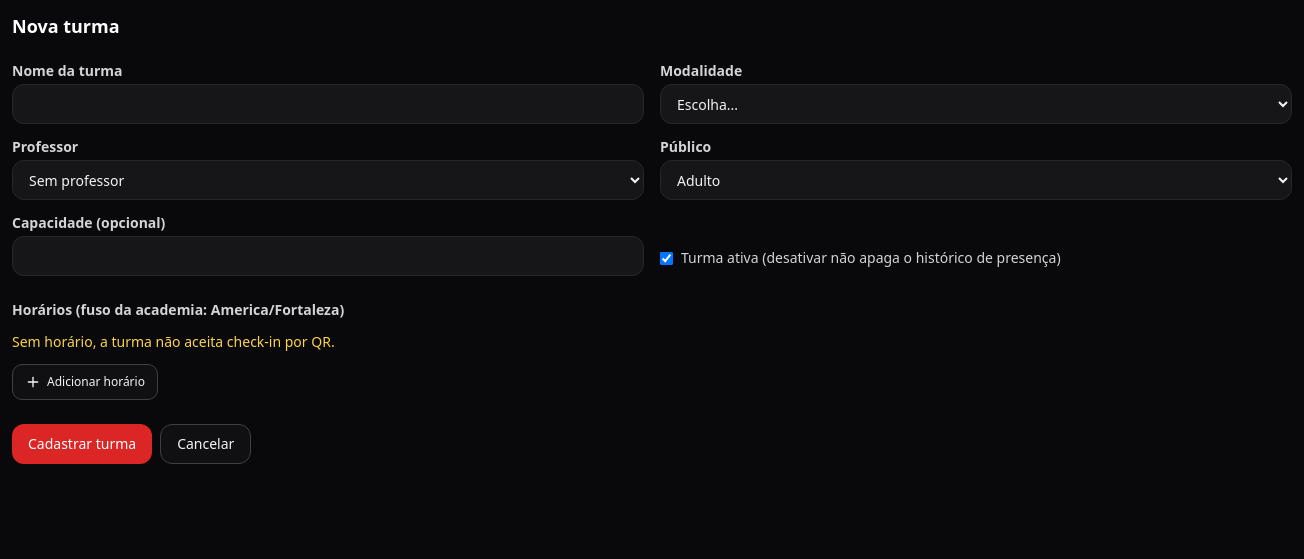
Test case: Painel: turmas › cadastro › erro do banco aparece no formulário
The width and height of the screenshot is (1304, 559).
Type "Kids" into the field labelled "Nome da turma". click: (328, 104)
box: [12,84,644,124]
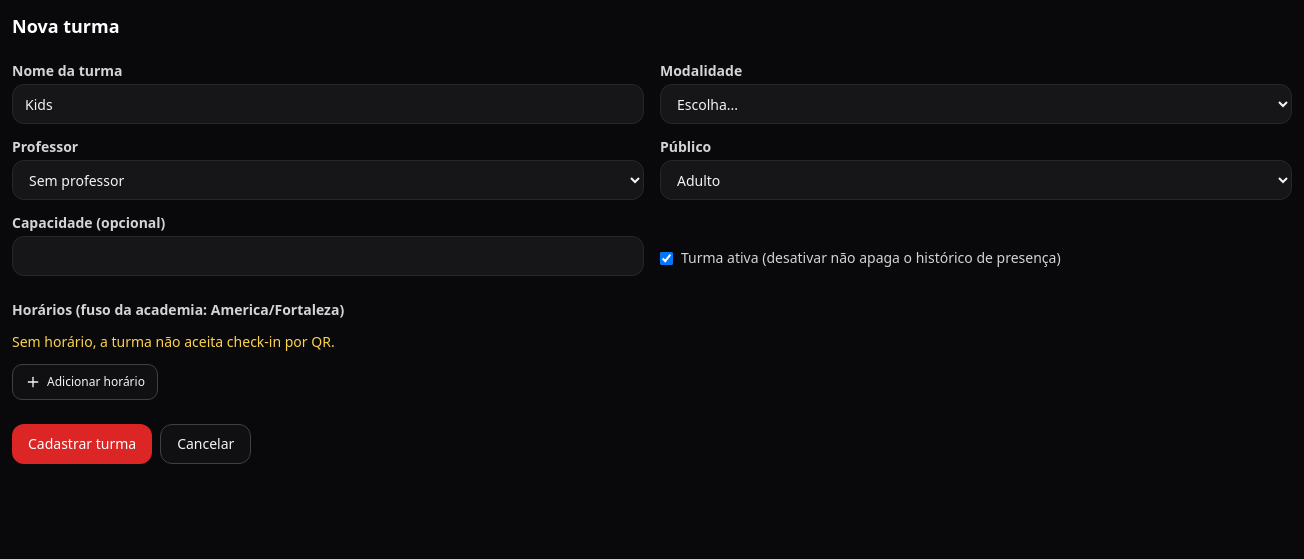
Select "Jiu-Jitsu" in the dropdown labelled "Modalidade". click: (976, 104)
box: [660,84,1292,124]
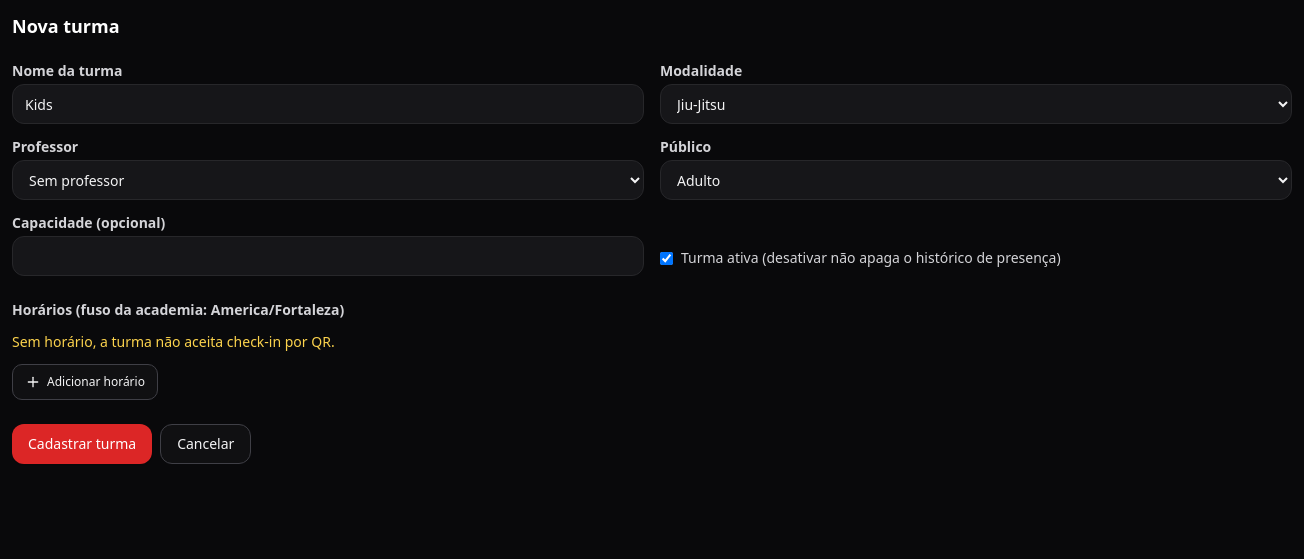
Click the button "Cadastrar turma". click: click(82, 444)
box: [12,424,152,464]
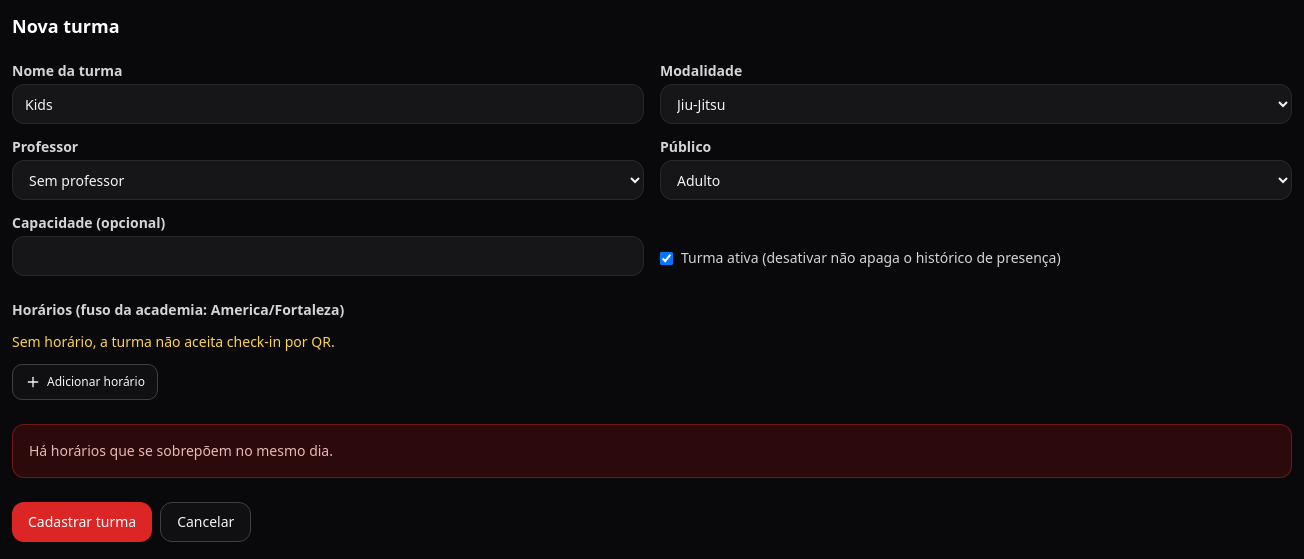
Now the message reads "Há horários que se sobrepõem no mesmo dia.", box [29,441,333,460]
